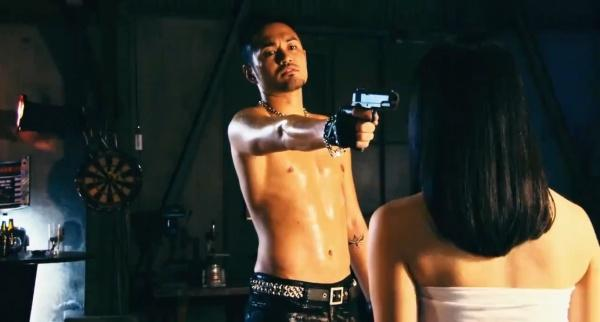Gun: (349, 89, 400, 122)
